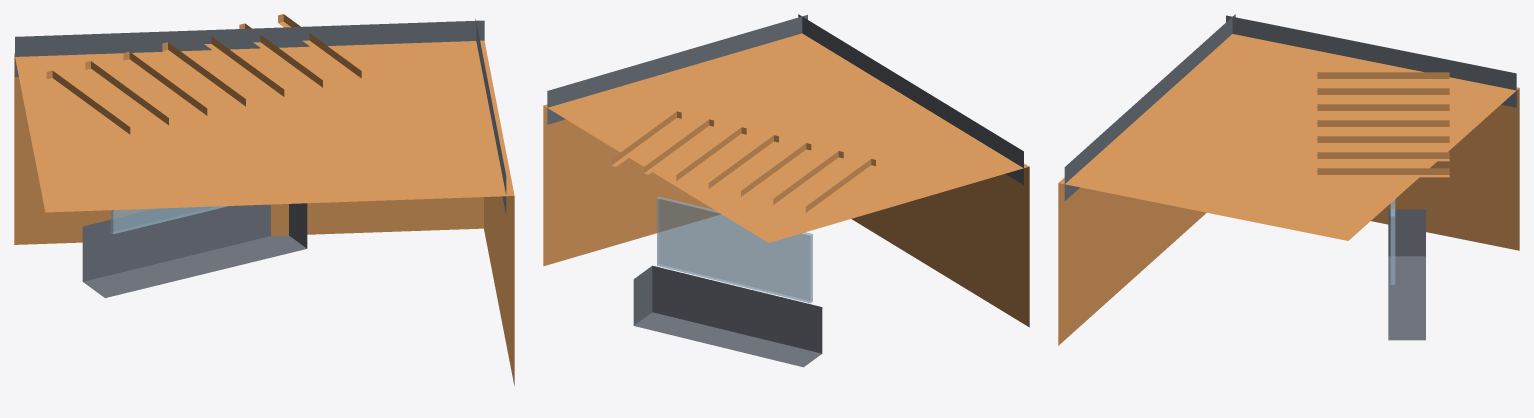
3 views of the same model, side by side, from view 1: azimuth 30°, elevation 25°; view 2: azimuth 150°, elevation 25°; view 3: azimuth 270°, elevation 25° (orthographic). The views are drawn at different scales.
Parts seen in each view (by area): view 1: ov325_TeaJunction_OrangeWood, ov325_TeaJunction_DarkCounter, ov325_TeaJunction_GlassDisplay; view 2: ov325_TeaJunction_OrangeWood, ov325_TeaJunction_DarkCounter, ov325_TeaJunction_GlassDisplay; view 3: ov325_TeaJunction_OrangeWood, ov325_TeaJunction_DarkCounter, ov325_TeaJunction_GlassDisplay.
Part boxes in pixels (box(x1,y1,x2,y2)): ov325_TeaJunction_OrangeWood: box(14, 14, 514, 386); ov325_TeaJunction_DarkCounter: box(15, 19, 506, 297); ov325_TeaJunction_GlassDisplay: box(110, 206, 228, 234); ov325_TeaJunction_OrangeWood: box(543, 33, 1029, 327); ov325_TeaJunction_DarkCounter: box(547, 14, 1023, 367); ov325_TeaJunction_GlassDisplay: box(657, 196, 812, 303); ov325_TeaJunction_OrangeWood: box(1058, 34, 1519, 345); ov325_TeaJunction_DarkCounter: box(1064, 14, 1516, 340); ov325_TeaJunction_GlassDisplay: box(1390, 199, 1395, 284).
Bounding box in the file's own units: 10.56 × 4.2 × 9.75.
